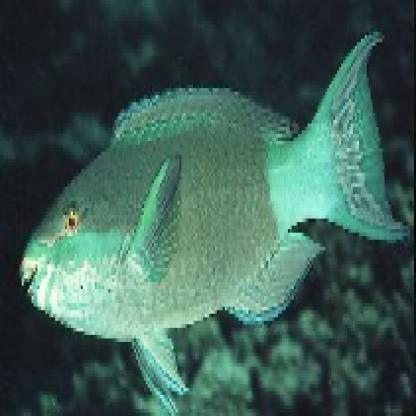parrot: (15, 5, 403, 407)
